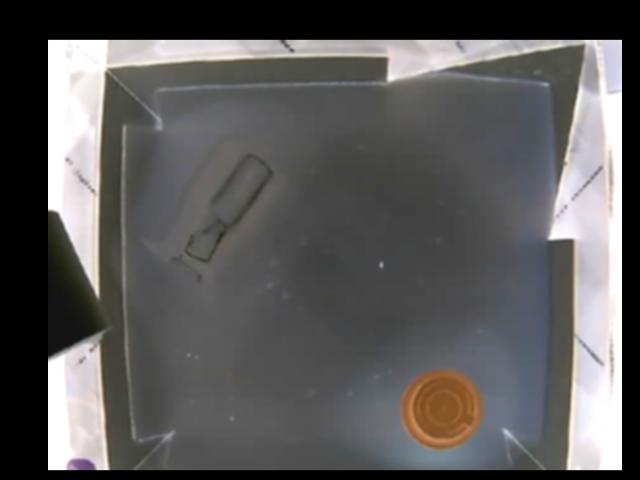Bottle: (143, 143, 279, 281)
Cup: (396, 368, 483, 447)
